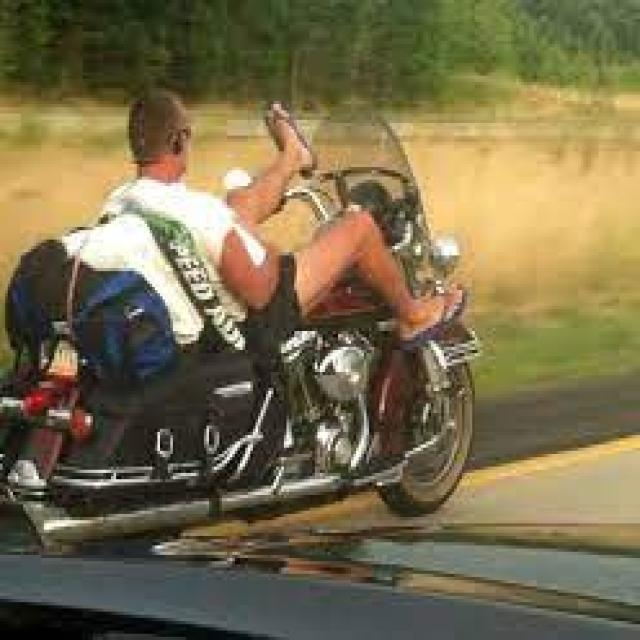Without Helmet: (124, 88, 195, 186)
